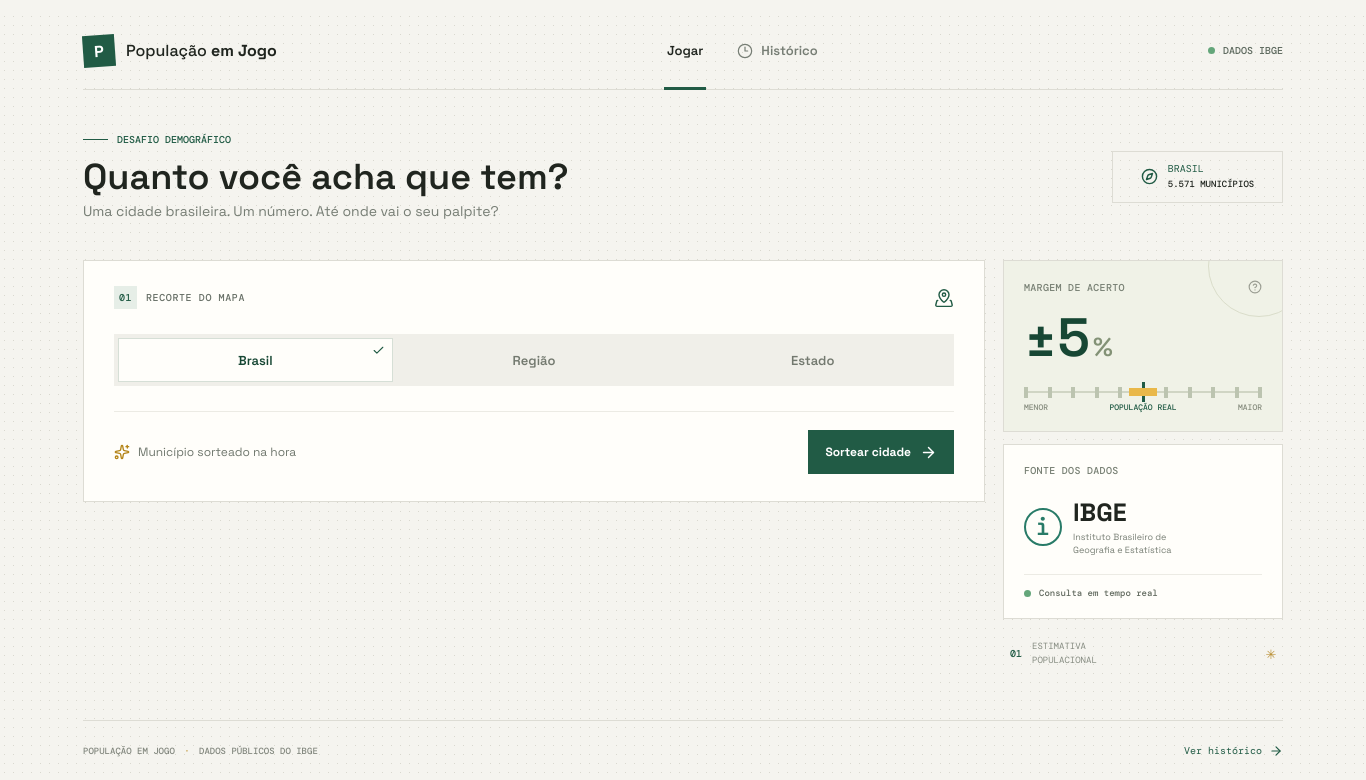
Scenario: App › mostra o resultado ao acertar
This screenshot has width=1366, height=780.
Click the button "Sortear cidade". click: {"x": 881, "y": 452}
box: left=808, top=430, right=954, bottom=474
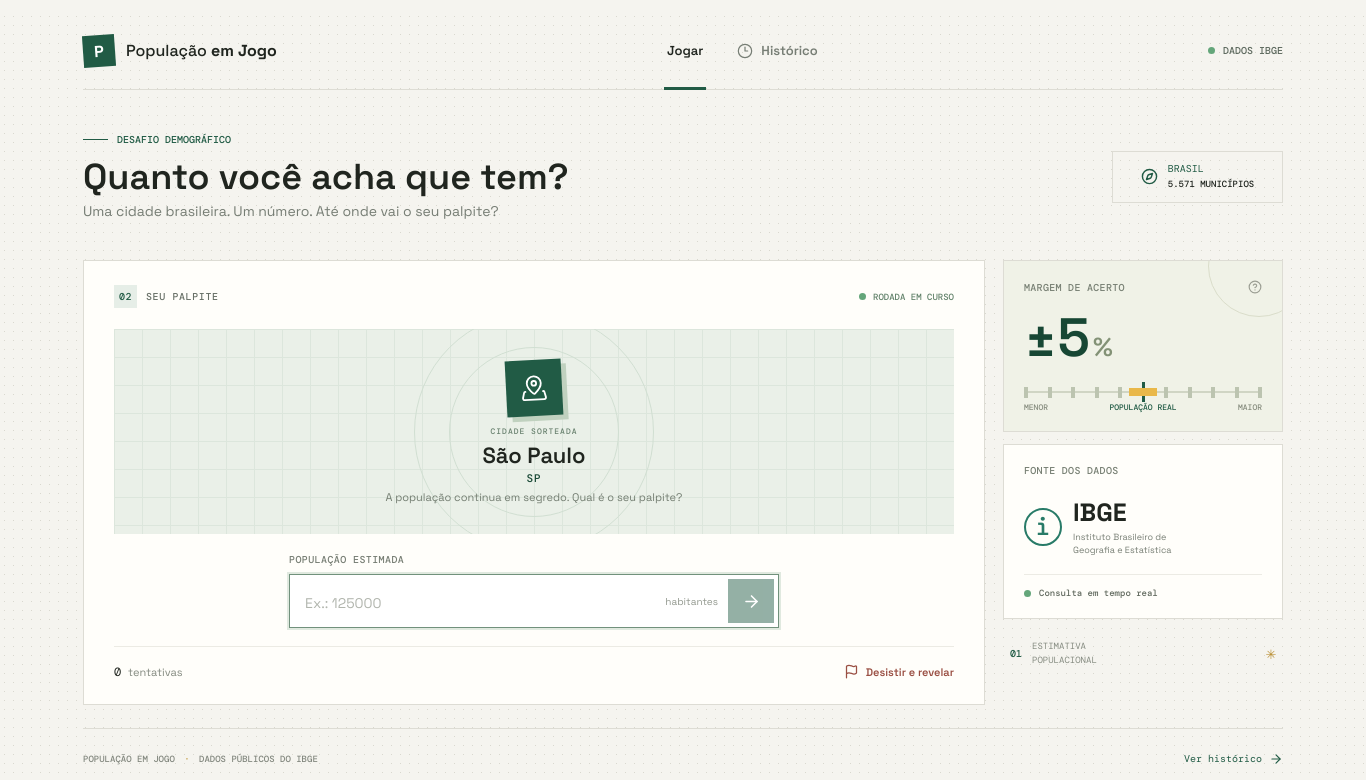
Type "123000" into the field labelled "POPULAÇÃO ESTIMADA". click: {"x": 509, "y": 601}
box: left=290, top=575, right=728, bottom=627
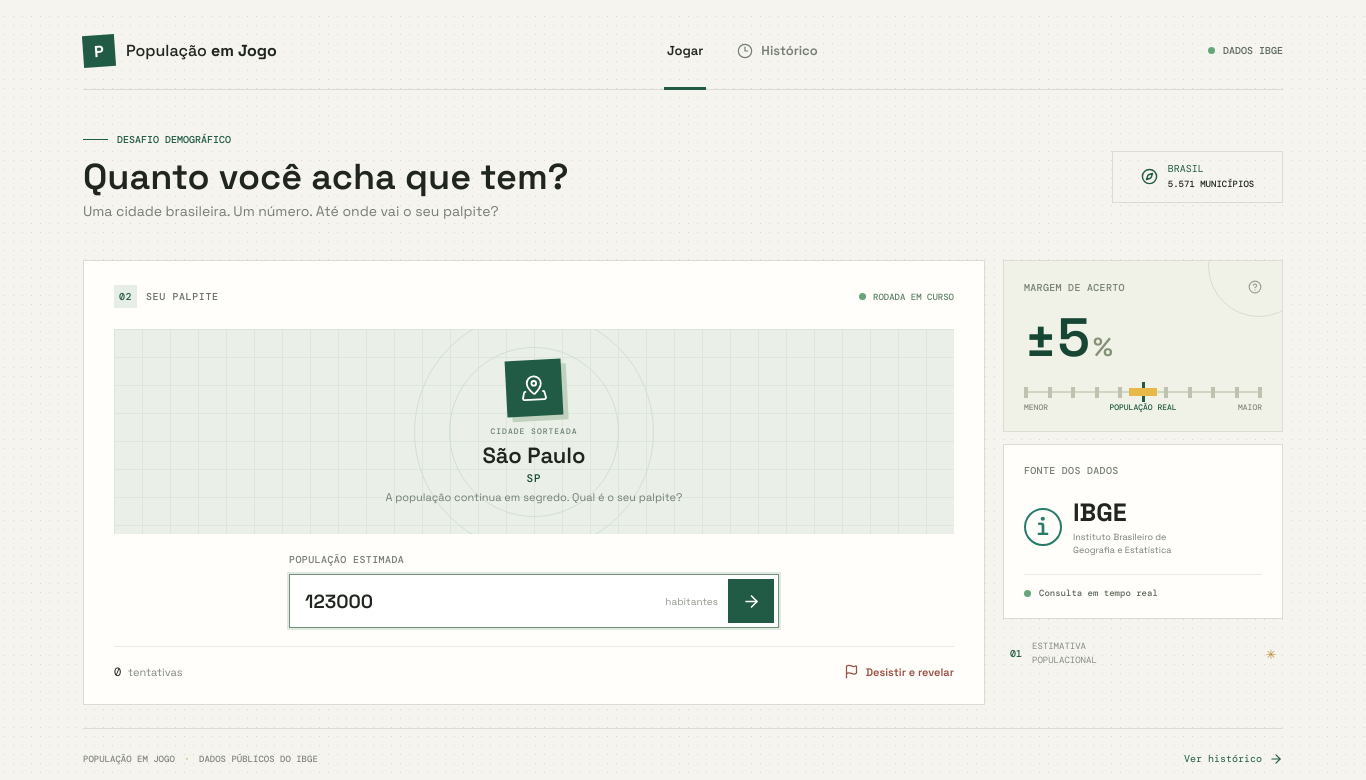
Click the button named "Enviar palpite". click: {"x": 751, "y": 601}
box: left=728, top=579, right=774, bottom=623
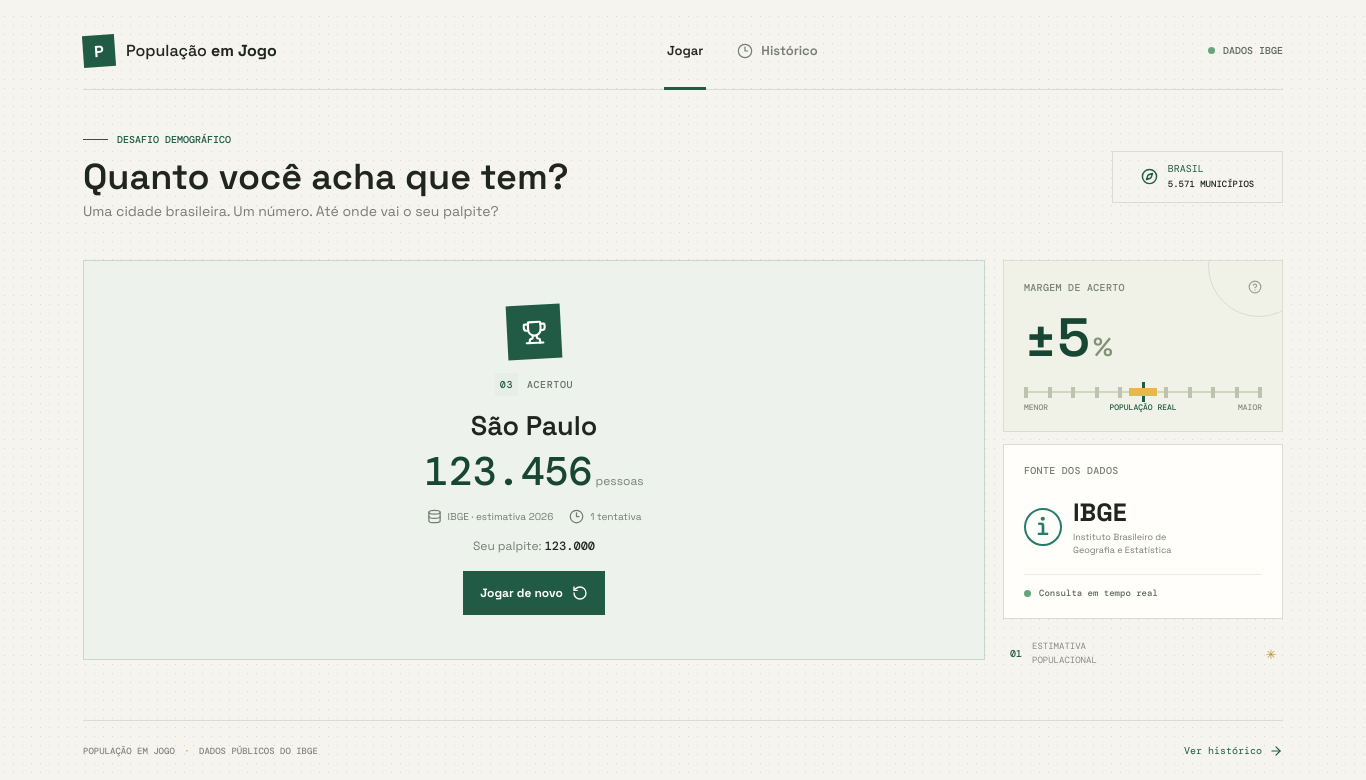
Check: the heading "São Paulo" is shown, box left=471, top=408, right=597, bottom=443
Check: the text "ACERTOU" is shown, box left=527, top=378, right=573, bottom=391
Check: the text "123.456" is shown, box left=424, top=445, right=592, bottom=497
